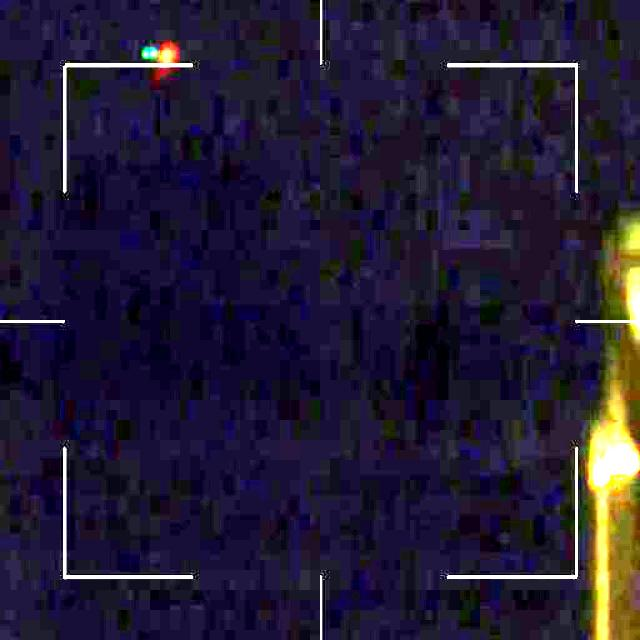bird: (141, 39, 178, 74)
